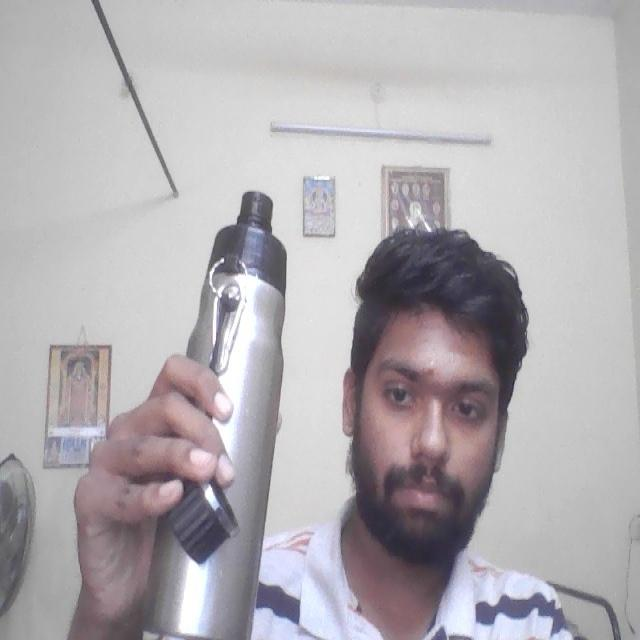Drinking: (156, 185, 296, 640)
